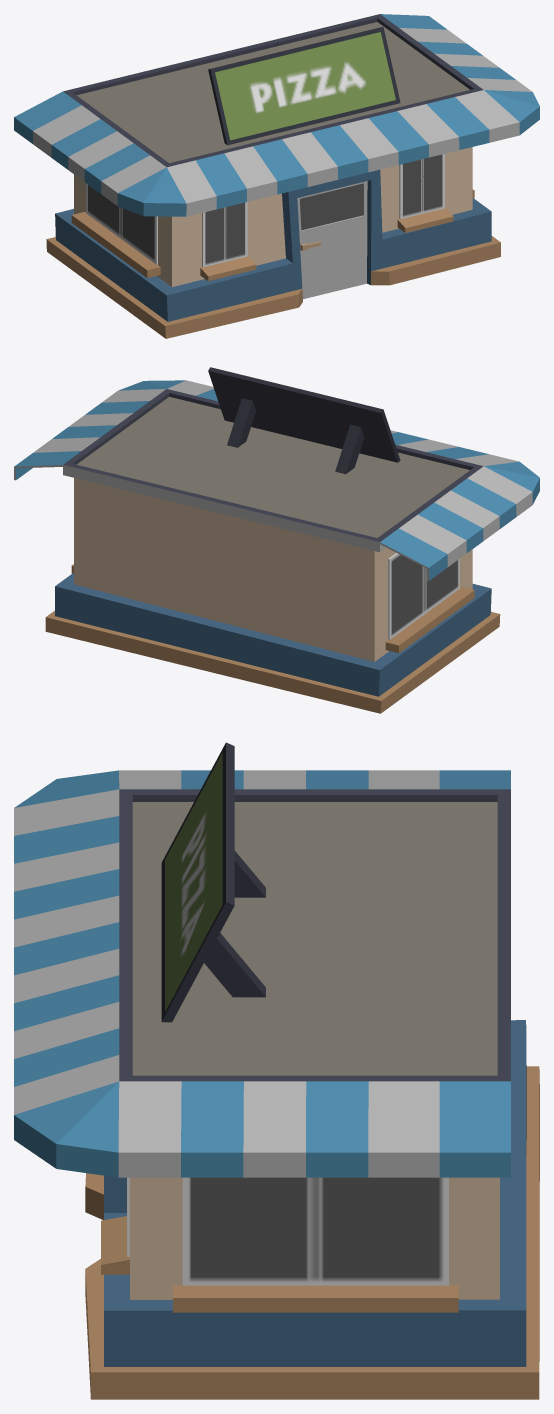
File: pizza03_color02.fbx
3 views of the same model, one above another, from view 1: azimuth 30°, elevation 25°; view 2: azimuth 150°, elevation 25°; view 3: azimuth 270°, elevation 25° (orthographic). The views are drawn at different scales.
Visible parts, largest first — view 1: pizza03_color02; view 2: pizza03_color02; view 3: pizza03_color02.
Boxes of the visible parts, x1,y1,x2,y2 form: pizza03_color02: (14,14,539,338); pizza03_color02: (14,367,539,713); pizza03_color02: (14,742,539,1399).
Bounding box in the file's own units: 1140 × 588 × 663.
